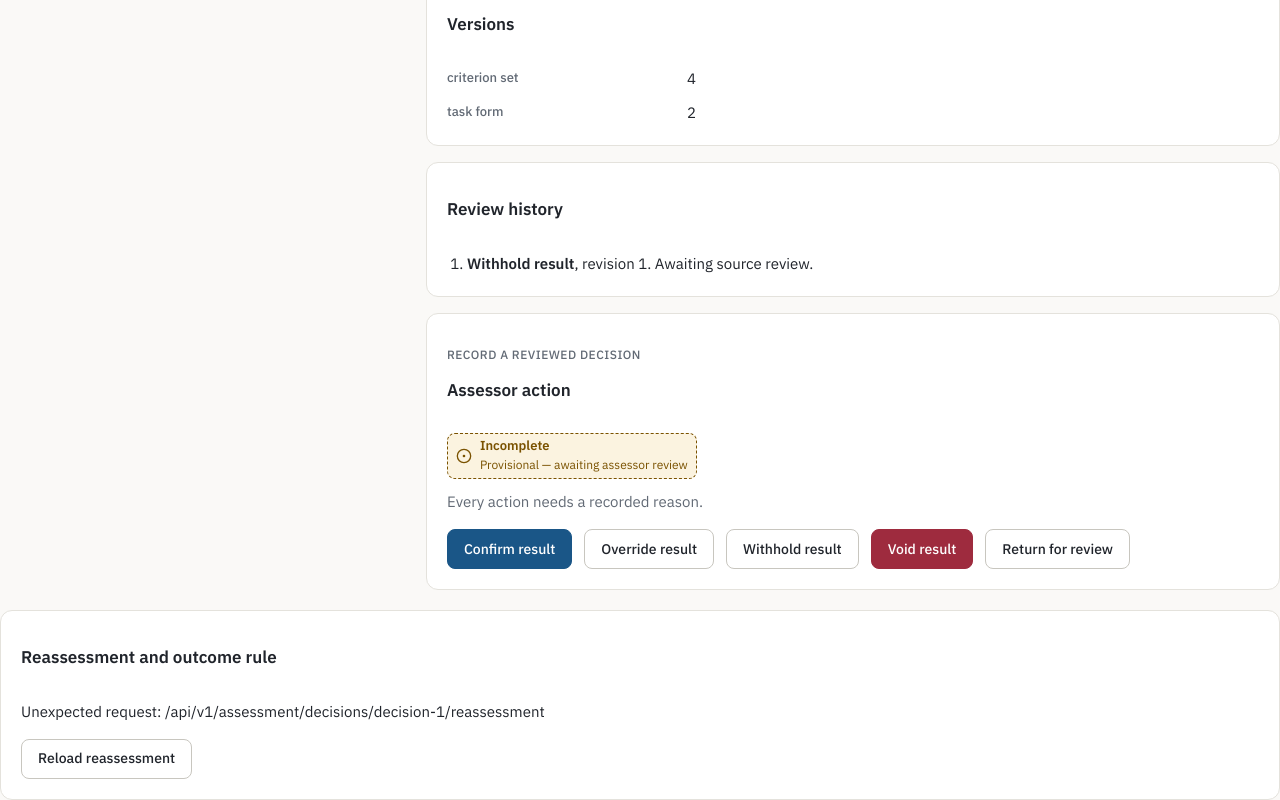
it: Override result requires a reason before confirm is enabled
(page scrolled)
Click the button "Override result".
click(649, 549)  # box [584, 529, 714, 569]
(page scrolled)
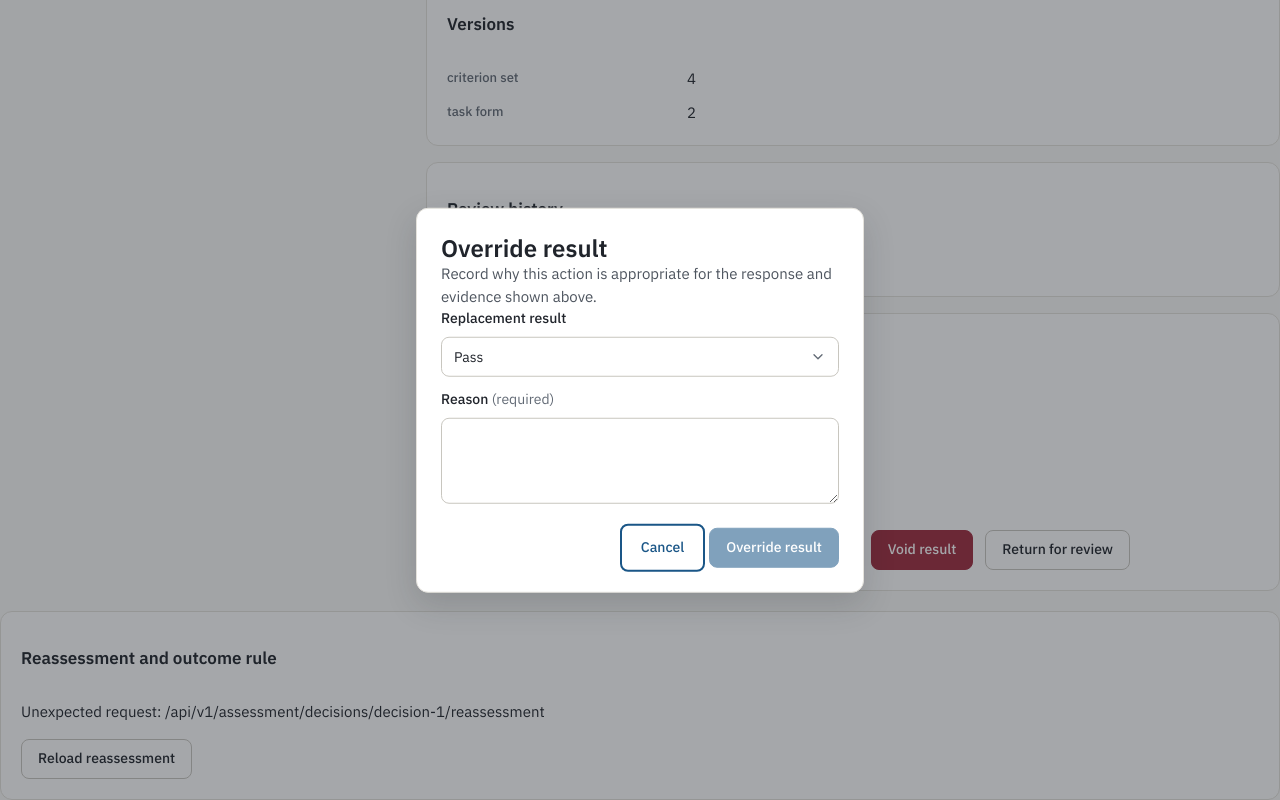
expect the button "Override result" is disabled: met, box [709, 527, 839, 567]
Type "Reviewed against evidence." into the text box labelled "Reason (required)".
click(640, 461); type("Reviewed against evidence.")  # box [441, 418, 839, 503]
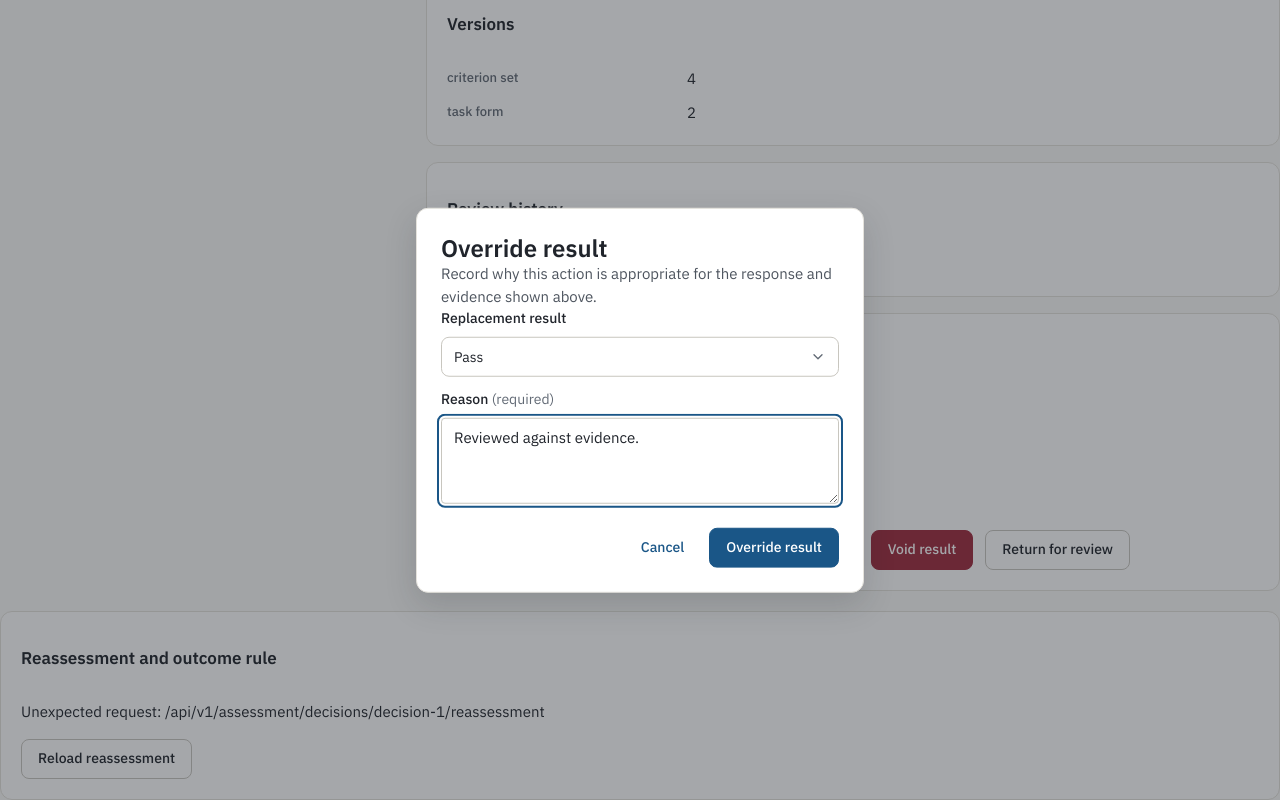
expect the button "Override result" is enabled: met, box [709, 527, 839, 567]
Clear the text box labelled "Reason (required)" at [640, 461], box [441, 418, 839, 503]
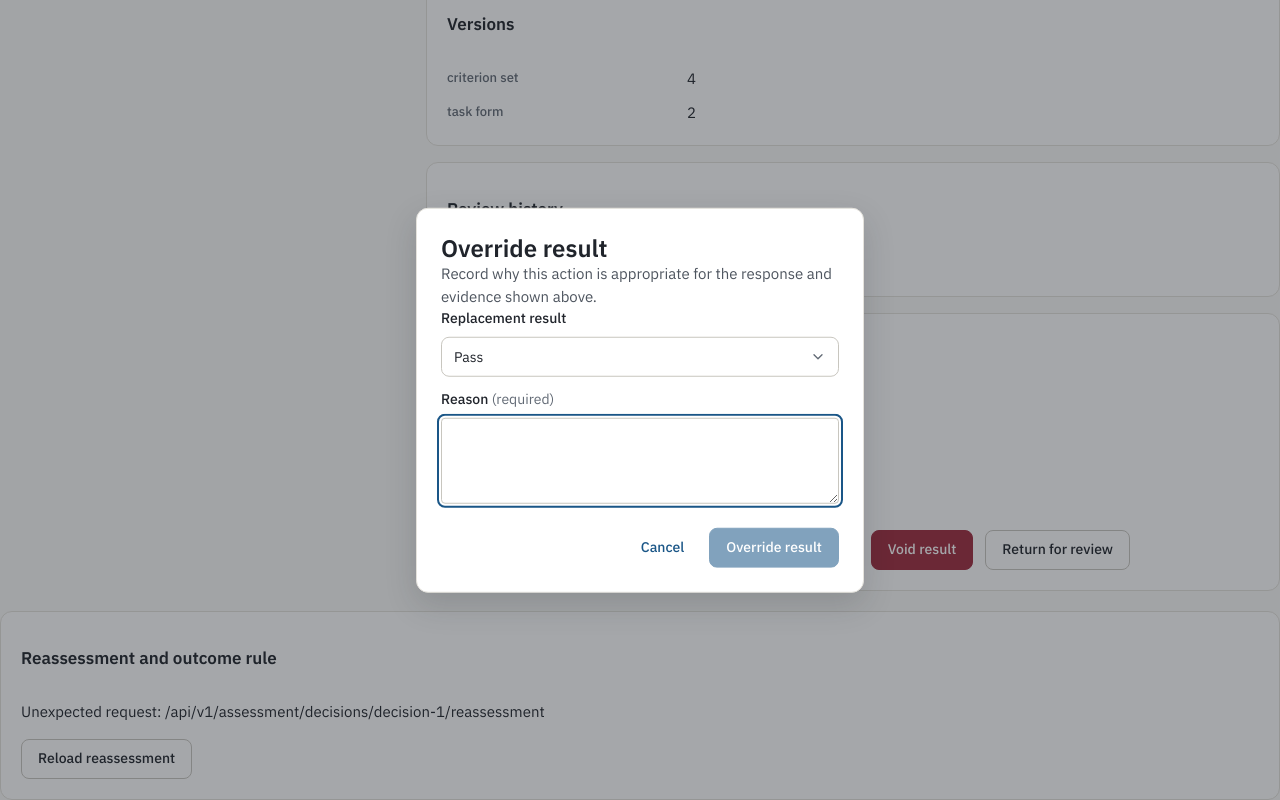
expect the button "Override result" is disabled: met, box [709, 527, 839, 567]
Click the button "Cancel".
click(663, 547)  # box [624, 527, 701, 567]
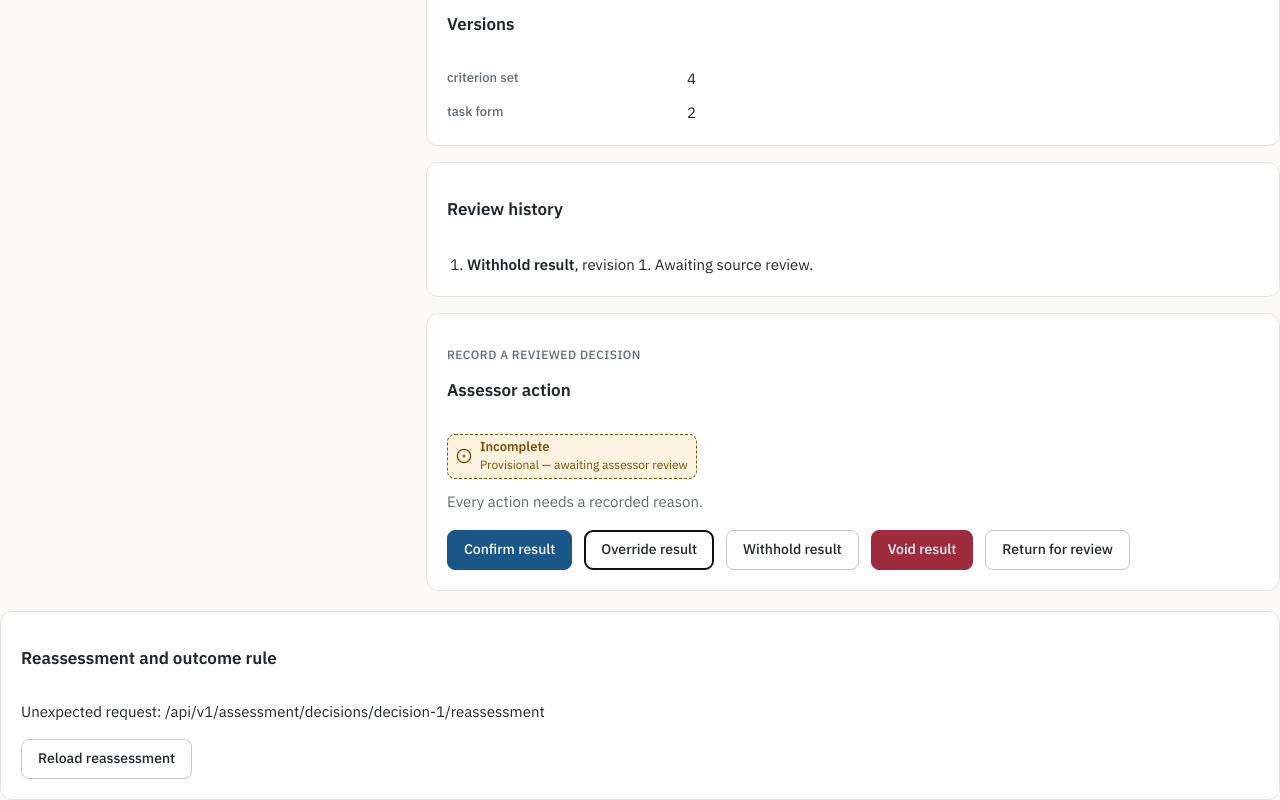
expect the dialog is gone: met
